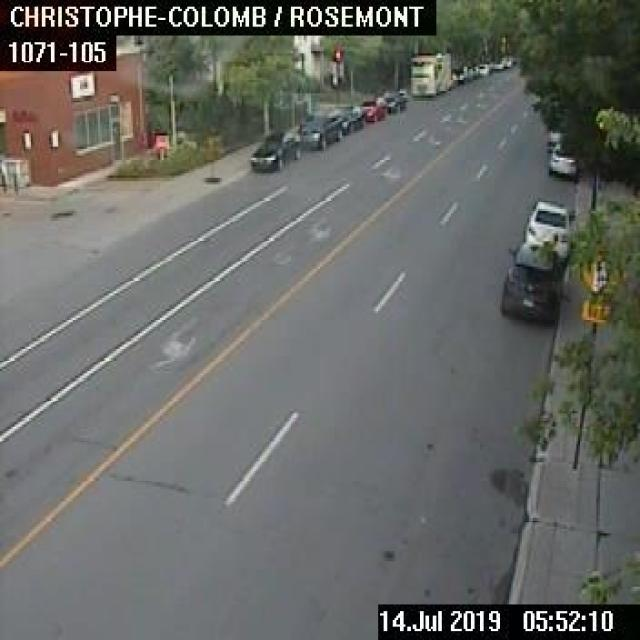vehicle: (499, 241, 559, 322), (522, 199, 573, 257), (250, 129, 300, 170), (409, 51, 450, 94), (297, 113, 340, 149), (546, 138, 576, 176), (332, 103, 363, 131), (361, 95, 386, 122), (382, 91, 405, 112), (450, 68, 465, 84), (477, 62, 489, 74)
